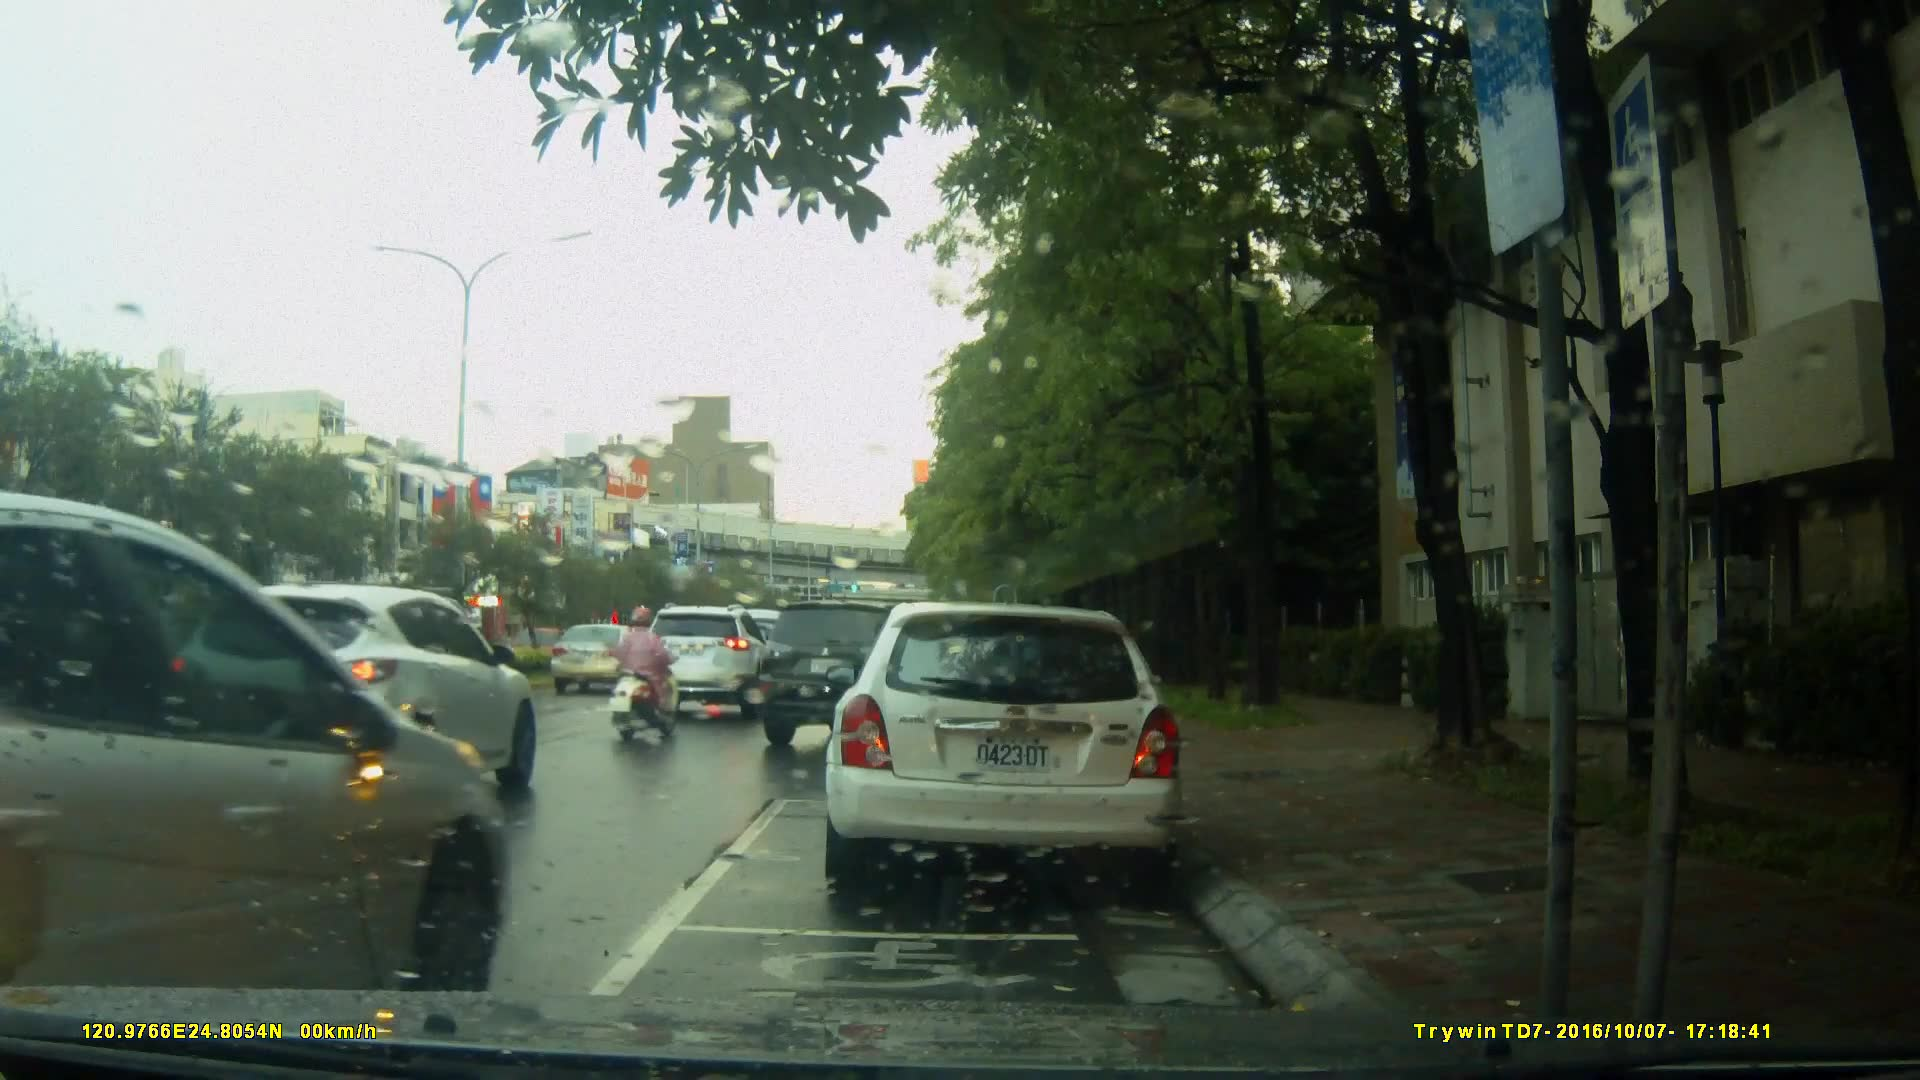rider: (612, 604, 683, 748)
vehicle: (1, 489, 514, 992), (820, 602, 1188, 898), (159, 581, 540, 810), (753, 599, 981, 755), (636, 605, 780, 722), (547, 621, 651, 696)
